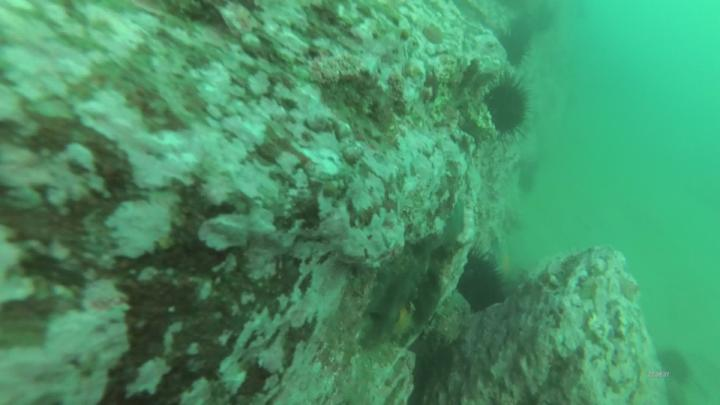echinus: (484, 69, 533, 145), (459, 249, 510, 316), (657, 350, 695, 388), (493, 32, 528, 69), (508, 16, 535, 54)
